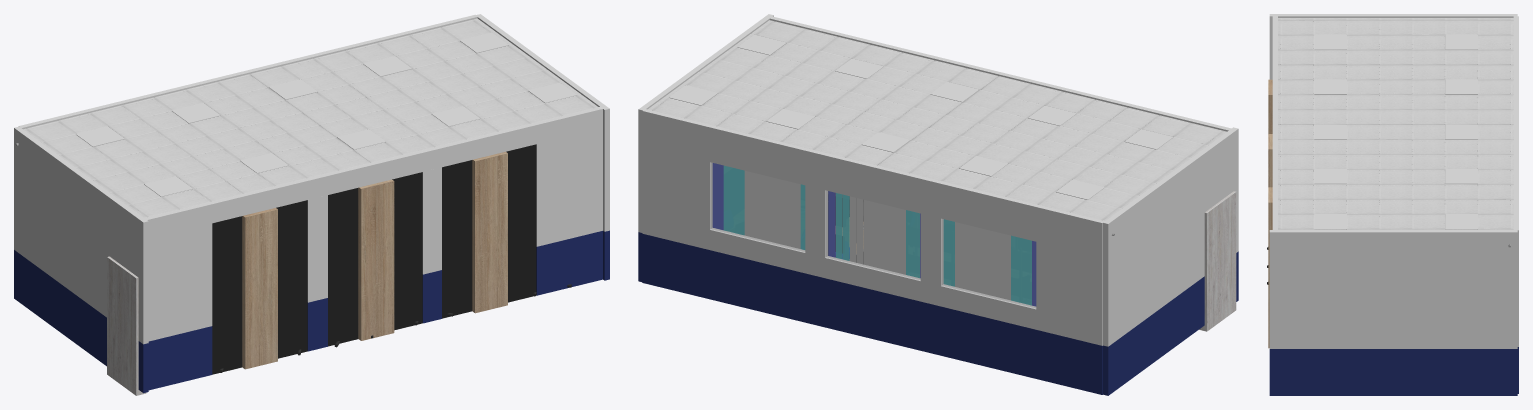
The model's file is офис 2.fbx.
3 views of the same model, side by side, from view 1: azimuth 30°, elevation 25°; view 2: azimuth 150°, elevation 25°; view 3: azimuth 270°, elevation 25° (orthographic). The views are drawn at different scales.
Parts seen in each view (by area): view 1: Cube, Куб.147, Куб.145, Куб.142, Куб.130, Куб.131, Куб.132, Куб.140, Куб.134, Куб.138, Куб.136, Куб.137 (+15 smaller); view 2: Cube, Куб.144, Куб.139, Куб.145, Куб.283, Куб.143, Куб.282, Куб.140, Куб.281, Куб.147, Куб.146, Куб.008 (+21 smaller); view 3: Cube, Куб.146, Куб.141, Куб.144, Куб.147, Куб.145, Куб, Куб.001, Куб.004, Куб.005, Куб.006, Куб.007 (+7 smaller).
Part boxes in pixels (box(x1,y1,x2,y2)): Cube: box(23, 18, 598, 217); Куб.147: box(144, 107, 602, 341); Куб.145: box(14, 126, 148, 344); Куб.142: box(148, 231, 602, 390); Куб.130: box(358, 179, 394, 340); Куб.131: box(242, 208, 277, 369); Куб.132: box(472, 151, 507, 313); Куб.140: box(14, 250, 148, 393); Куб.134: box(328, 188, 358, 346); Куб.138: box(212, 216, 242, 374); Куб.136: box(442, 160, 472, 318); Куб.137: box(276, 200, 307, 358); Cube: box(648, 20, 1226, 220); Куб.144: box(642, 109, 1104, 345); Куб.139: box(642, 233, 1102, 394); Куб.145: box(1103, 127, 1238, 346); Куб.283: box(710, 162, 805, 252); Куб.143: box(825, 190, 920, 280); Куб.282: box(941, 219, 1036, 308); Куб.140: box(1103, 251, 1238, 395); Куб.281: box(1199, 191, 1236, 331); Куб.147: box(769, 16, 1231, 131); Куб.146: box(638, 14, 773, 232); Куб.008: box(1124, 129, 1173, 149); Cube: box(1278, 18, 1513, 229); Куб.146: box(1269, 230, 1517, 348); Куб.141: box(1269, 349, 1517, 395); Куб.144: box(1513, 16, 1518, 346); Куб.147: box(1272, 16, 1277, 230); Куб.145: box(1269, 14, 1517, 79); Куб: box(1314, 214, 1346, 229); Куб.001: box(1445, 214, 1477, 229); Куб.004: box(1314, 124, 1346, 139); Куб.005: box(1445, 124, 1477, 139); Куб.006: box(1314, 79, 1346, 94); Куб.007: box(1445, 79, 1477, 94).
Size of the model in its own units: 1753 by 625 by 844.
